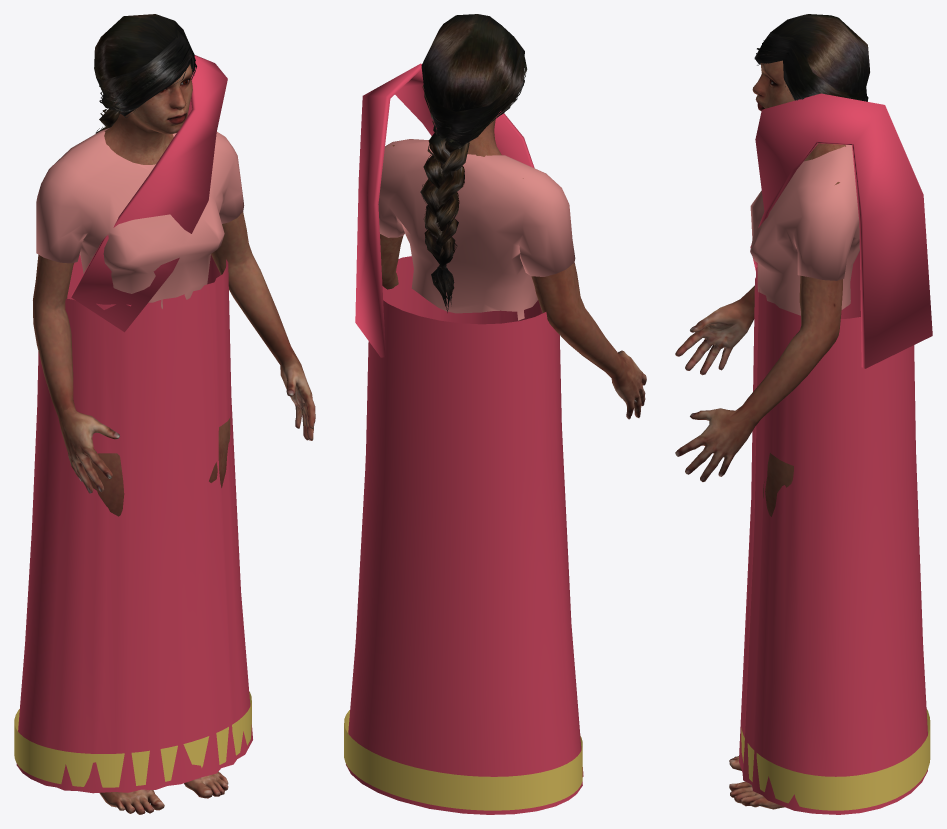
Rendered from street_woman_saree_red.glb.
3 views of the same model, side by side, from view 1: azimuth 30°, elevation 25°; view 2: azimuth 150°, elevation 25°; view 3: azimuth 270°, elevation 25° (orthographic).
Visible parts, largest first — view 1: woman_saree_red; view 2: woman_saree_red; view 3: woman_saree_red.
Part boxes in pixels (box(x1,y1,x2,y2)): woman_saree_red: box(14, 14, 315, 814); woman_saree_red: box(344, 14, 646, 814); woman_saree_red: box(675, 14, 932, 814).
Bounding box in the file's own units: 0.5185 × 1.59 × 0.4821.
Materials: 10 (7 with a texture image).
